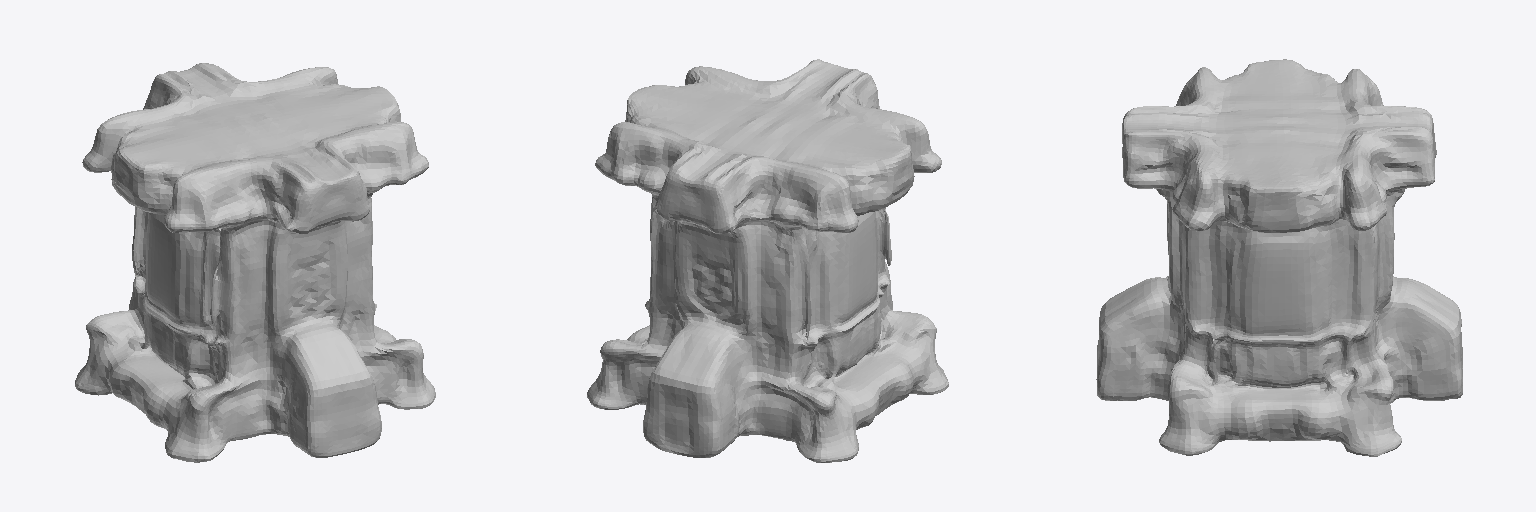
The model's file is d7860c643fd0_a_sci_fi_millitary_.obj.
The picture shows the model from 3 angles: view 1: azimuth 30°, elevation 25°; view 2: azimuth 150°, elevation 25°; view 3: azimuth 270°, elevation 25°; orthographic projection.
Parts seen in each view (by area): view 1: mesh; view 2: mesh; view 3: mesh.
Boxes of the visible parts, <box> form: mesh: <box>75,63,435,462</box>; mesh: <box>587,59,948,462</box>; mesh: <box>1096,59,1462,456</box>.
Bounding box in the file's own units: 0.8452 × 0.8243 × 0.9993.